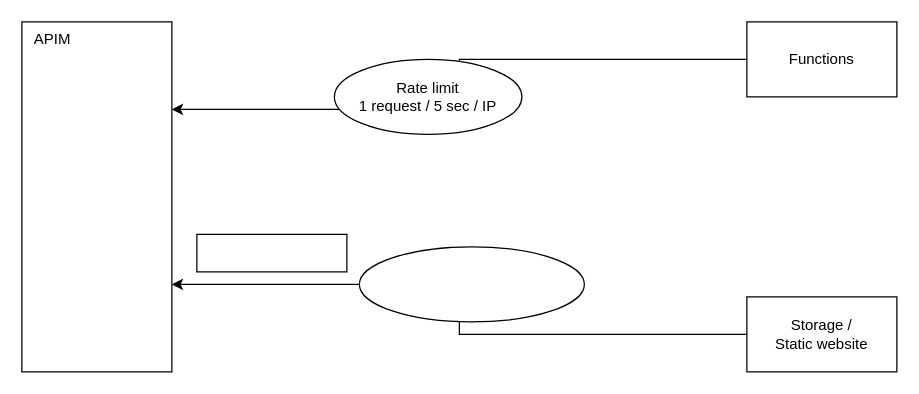
Some shapes in this 919 by 394 pixel diagram are drawn without their labels. The centre of each missing label's shape, as x and y in pixels:
Add CORS header to reach functions API: (471,284)
GET: /{*path}: (271,252)
